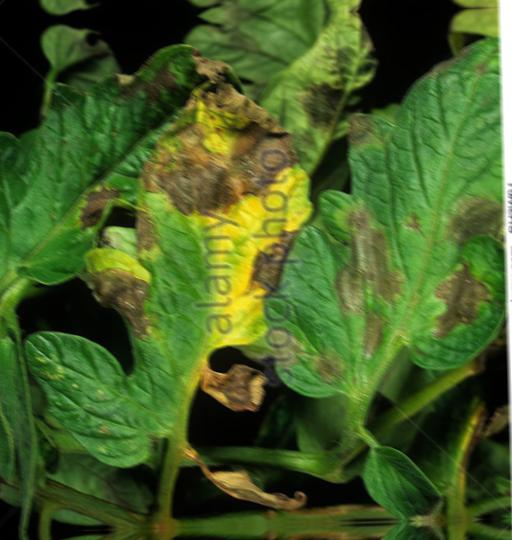Tomato leaf late blight: (26, 58, 322, 474), (255, 55, 510, 431)
